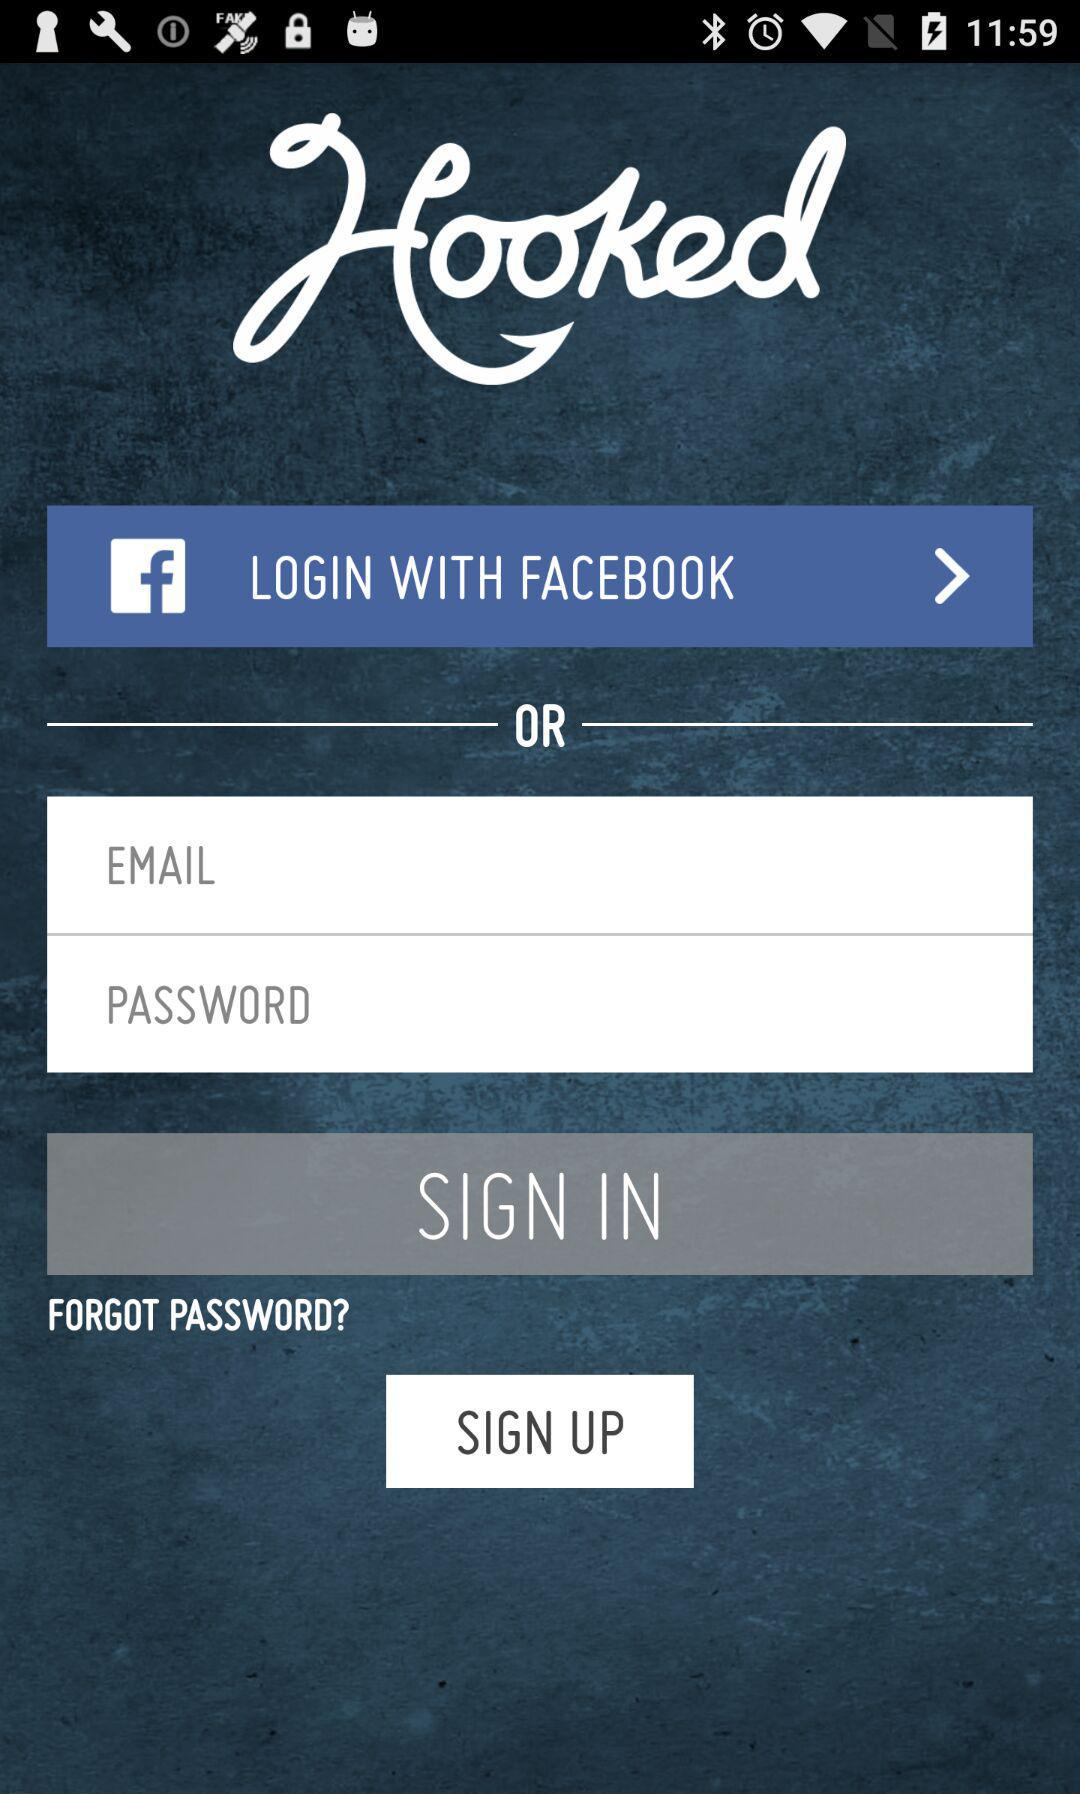EditText: (47, 797, 1033, 937), (47, 934, 1033, 1074)
Image: (232, 111, 848, 388)
Text: (49, 1297, 351, 1333), (109, 985, 311, 1025), (109, 846, 217, 885), (515, 704, 568, 750)
TextButton: (47, 505, 1034, 648), (47, 1133, 1034, 1276), (386, 1375, 694, 1489)
UpperTaskBar: (1, 1, 1080, 64)
